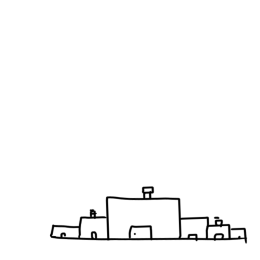bottom_placed_house: (1, 1, 260, 260)
chimney: (139, 183, 159, 202), (211, 212, 226, 227), (85, 204, 99, 219)
door: (126, 222, 156, 243), (186, 230, 201, 244), (89, 230, 100, 241)
small_house: (7, 13, 260, 260)
wall: (105, 193, 183, 243), (178, 215, 211, 245), (78, 215, 110, 244)
